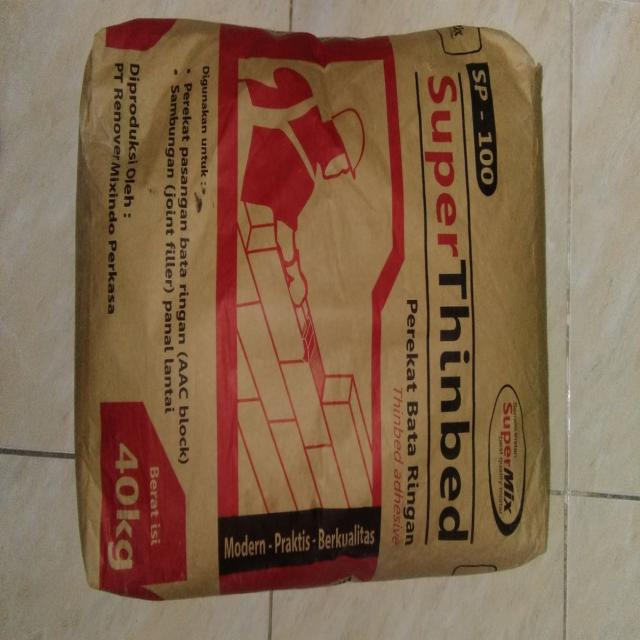KantongSemen: (73, 17, 550, 600)
